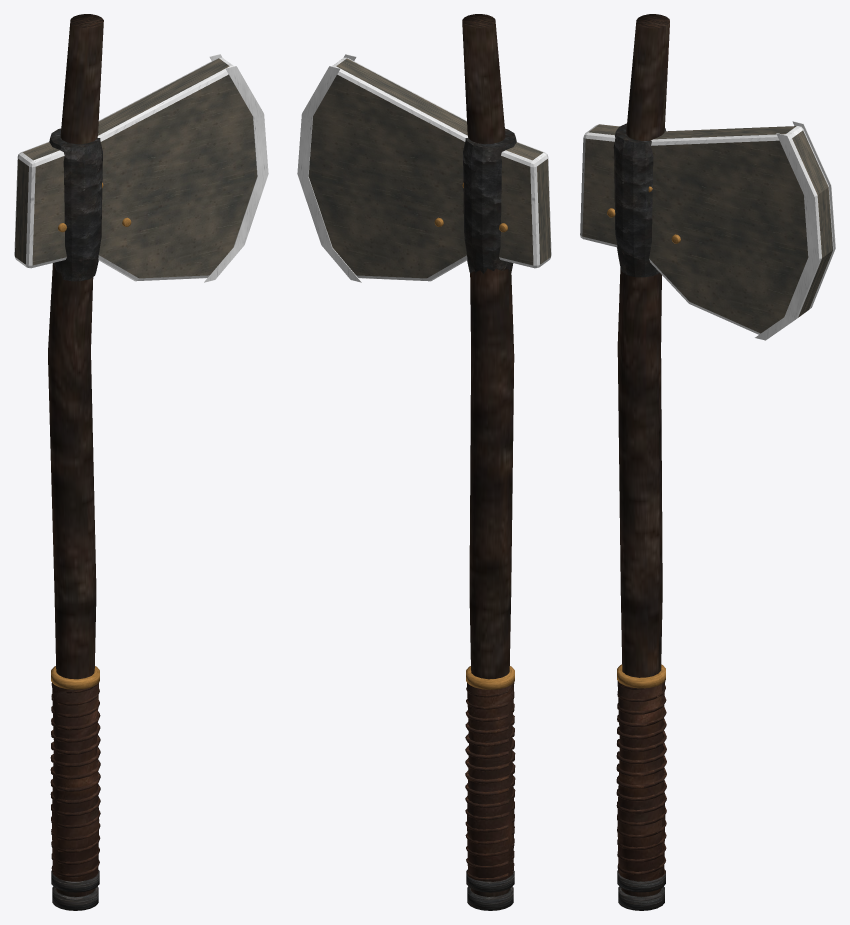
Rendered from tithe_cleaver.glb.
3 renders of one model, left to right at view 1: azimuth 30°, elevation 25°; view 2: azimuth 150°, elevation 25°; view 3: azimuth 330°, elevation 25°, orthographic.
Parts seen in each view (by area): view 1: Shaped bearded axe head.003, Straight palm shaft and tapered ironwood.006, Bound palm grip.015, Swaged head socket.006, Continuous bound leather seam.015, Honed cutting cheek.006, Socketed pommel ferrule.006, Grip forward ferrule.015, Grip rear ferrule.015; view 2: Shaped bearded axe head.003, Straight palm shaft and tapered ironwood.006, Bound palm grip.015, Swaged head socket.006, Continuous bound leather seam.015, Honed cutting cheek.007, Socketed pommel ferrule.006, Grip forward ferrule.015, Grip rear ferrule.015; view 3: Shaped bearded axe head.003, Straight palm shaft and tapered ironwood.006, Bound palm grip.015, Swaged head socket.006, Continuous bound leather seam.015, Honed cutting cheek.006, Socketed pommel ferrule.006, Grip forward ferrule.015, Honed cutting cheek.007, Grip rear ferrule.015.
Boxes of the visible parts, x1,y1,x2,y2 form: Shaped bearded axe head.003: [14, 57, 257, 281]; Straight palm shaft and tapered ironwood.006: [48, 14, 103, 896]; Bound palm grip.015: [51, 682, 99, 881]; Swaged head socket.006: [49, 128, 102, 281]; Continuous bound leather seam.015: [50, 683, 100, 877]; Honed cutting cheek.006: [204, 66, 268, 282]; Socketed pommel ferrule.006: [52, 886, 98, 910]; Grip forward ferrule.015: [51, 666, 99, 689]; Grip rear ferrule.015: [51, 870, 99, 892]; Shaped bearded axe head.003: [308, 57, 551, 281]; Straight palm shaft and tapered ironwood.006: [462, 14, 514, 896]; Bound palm grip.015: [467, 682, 514, 881]; Swaged head socket.006: [463, 128, 516, 273]; Continuous bound leather seam.015: [465, 685, 515, 881]; Honed cutting cheek.007: [297, 66, 361, 282]; Socketed pommel ferrule.006: [467, 886, 513, 910]; Grip forward ferrule.015: [466, 666, 514, 689]; Grip rear ferrule.015: [466, 869, 514, 892]; Shaped bearded axe head.003: [580, 124, 833, 334]; Straight palm shaft and tapered ironwood.006: [617, 14, 669, 896]; Bound palm grip.015: [617, 681, 665, 881]; Swaged head socket.006: [613, 123, 665, 277]; Continuous bound leather seam.015: [616, 682, 666, 876]; Honed cutting cheek.006: [755, 133, 819, 340]; Socketed pommel ferrule.006: [618, 886, 664, 910]; Grip forward ferrule.015: [617, 664, 665, 688]; Honed cutting cheek.007: [792, 121, 835, 309]; Grip rear ferrule.015: [617, 869, 665, 892].
Bounding box in the file's own units: 0.4817 × 1.68 × 0.0966.
6 materials, 6 textured.
